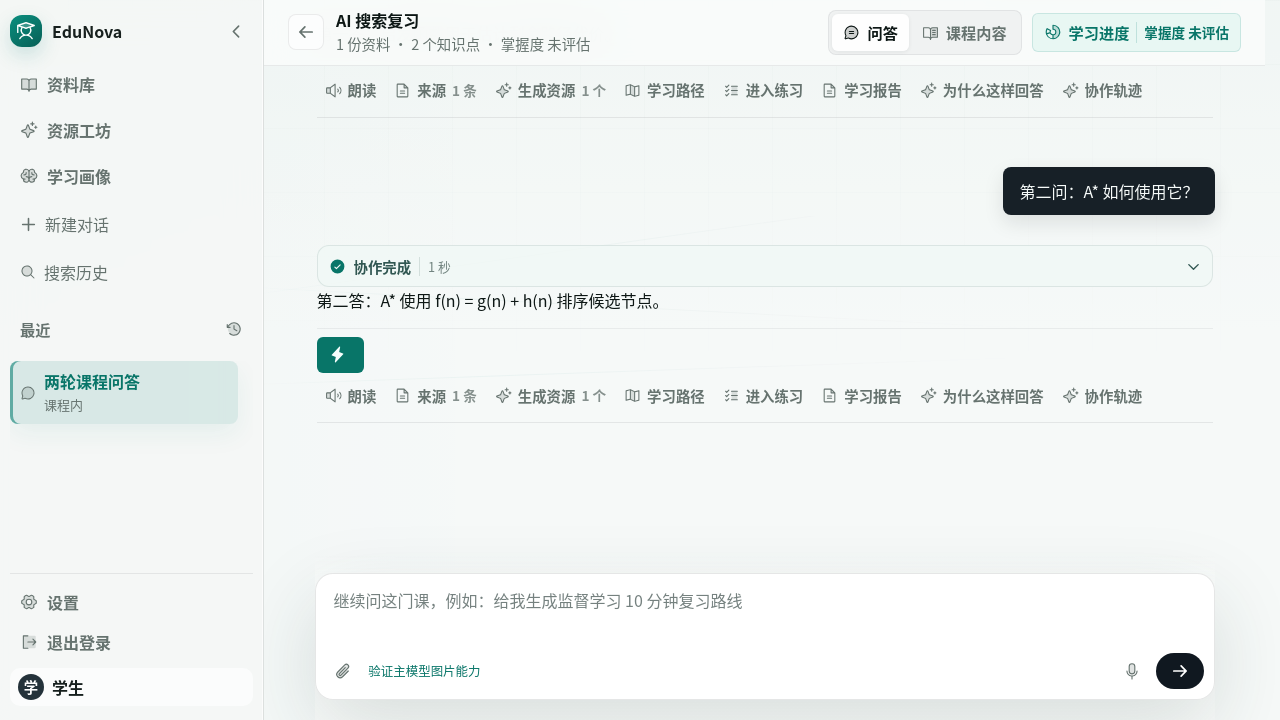
CourseSpacePage course tutor sessions › keeps citations attached to their own assistant turn
(page scrolled)
What coordinates should you click on to do the following:
click the button "来源 1 条" below "第一答：启发函数用于估计剩余路径代价。"
I would click on:
 (436, 90)
Its box is [386,73,485,107].
(page scrolled)
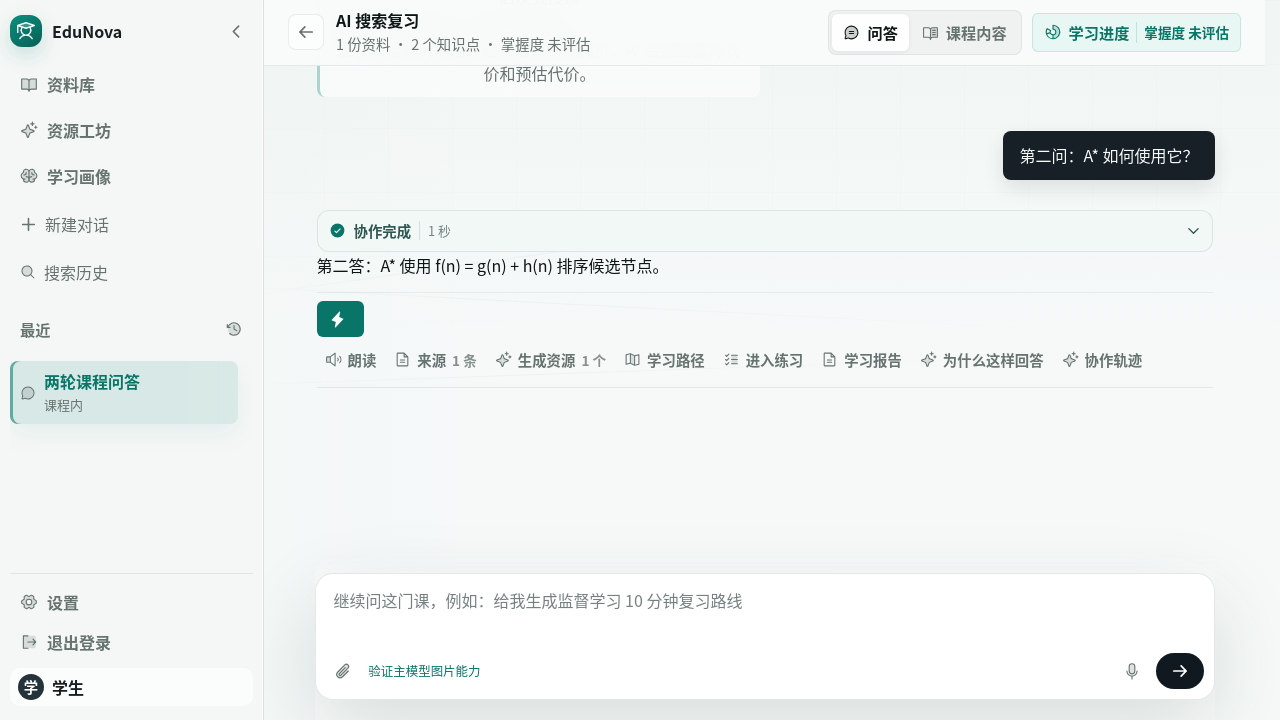
Expected: the text "搜索算法进阶讲义.md" is not shown
What coordinates should you click on to do the following:
click the button "来源 1 条"
I would click on:
 (436, 360)
Its box is [386,343,485,377].
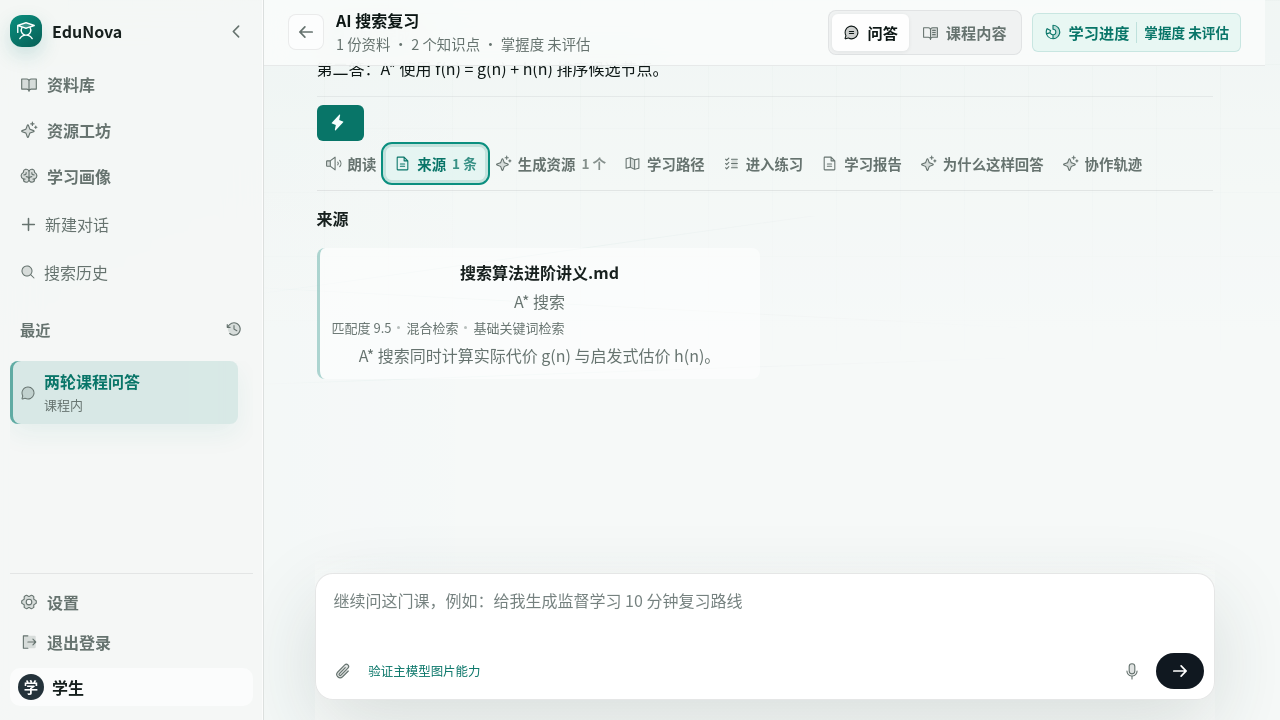
Expected: the text "搜索算法进阶讲义.md" is shown, [460,260,619,284]
